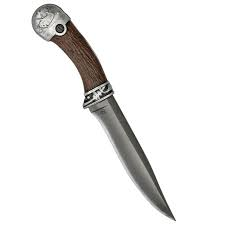knife: (25, 1, 183, 222)
